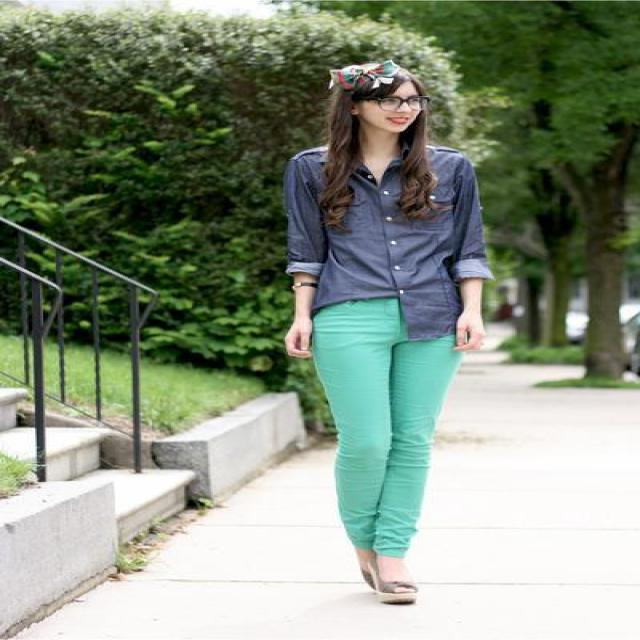pants: (310, 300, 461, 605)
shirt: (280, 141, 499, 344)
